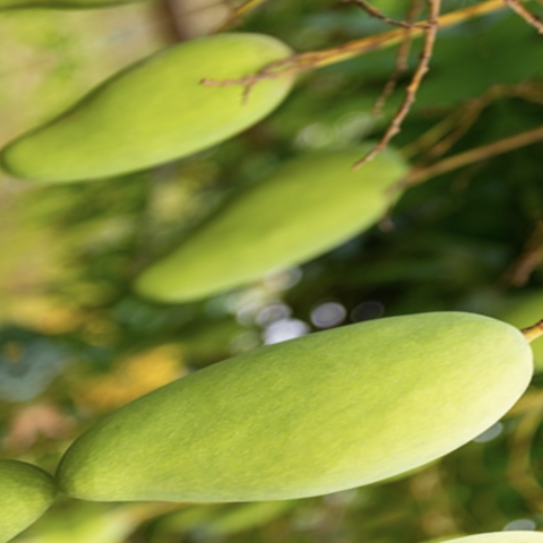mango: (28, 237, 543, 543), (86, 108, 442, 338), (0, 0, 325, 219)
